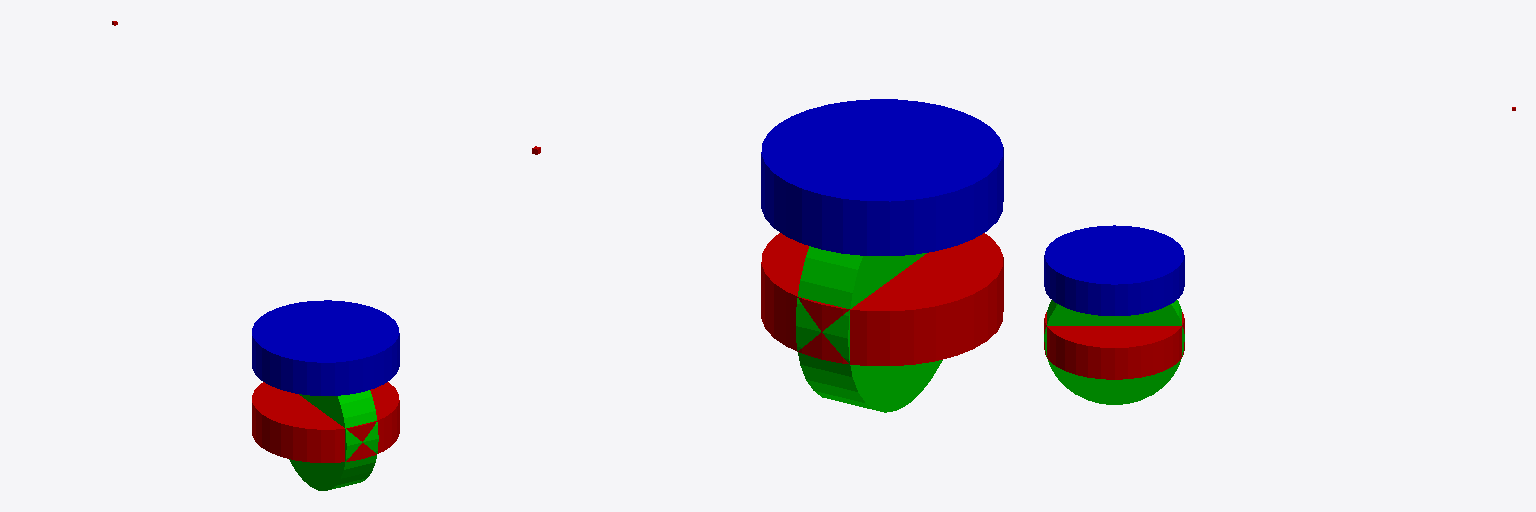
The robot description file, URDF, robot "mira_fixed":
<?xml version="1.0"?>
<robot name="mira_fixed">

    <material name="blue">
        <color rgba="0 0 0.8 1"/>
    </material>
    <material name="red">
        <color rgba="0.8 0 0 1"/>
    </material>
    <material name="green">
        <color rgba="0 0.8 0 1"/>
    </material>

    
	<!-- * * * Link Definitions * * * -->
    <link name="base_link">
 	    <inertial>
            <origin xyz="0 0 0" rpy="0 0 0"/>
            <mass value="0.18" />
            <inertia ixx="0.0002835" ixy="0.0" ixz="0.0" iyy="0.0002835" iyz="0.0" izz="0.000324"/>
        </inertial>
        <collision>
            <origin xyz="0 0 0" rpy="0 0 0"/>
            <geometry>
                <cylinder radius="0.06" length="0.09"/>
            </geometry>
        </collision>
        <visual>
            <origin rpy="0.0 0 0" xyz="0 0 0"/>
            <geometry>
                <mesh filename="package://mira_description/models/mira/meshes/mira_body_v3.dae"/>
            </geometry>
        </visual>
	</link>

    <gazebo reference="roll_M1_link">
        <kp>1000.0</kp>
        <kd>10.0</kd>
        <mu1>10.0</mu1>
        <mu2>10.0</mu2>
    </gazebo>

    <link name="roll_M1_link">
        <!-- Inertial for gazebo to take it into account, Put 1gr weight -->
        <inertial>
            <origin xyz="0 0 0" rpy="0 0 0"/>
            <mass value="0.001" />
            <inertia ixx="2.70833333333e-08" ixy="0.0" ixz="0.0" iyy="2.70833333333e-08" iyz="0.0" izz="5e-08"/>
        </inertial>
        <visual>
            <origin rpy="0 0 0" xyz="0 0 0"/>
            <geometry>
                <cylinder length="0.005" radius="0.01"/>
            </geometry>
            <material name="red"/>
        </visual>
    </link>
    <!-- This is for color and physical properties in Gazebo, color won't work with the material tag in gazebo
    only for URDF coloring -->
    <gazebo reference="roll_M1_link">
        <kp>1000.0</kp>
        <kd>10.0</kd>
        <mu1>10.0</mu1>
        <mu2>10.0</mu2>
        <material>Gazebo/Red</material>
    </gazebo>

    <joint name="roll_joint" type="fixed">
    	<parent link="base_link"/>
    	<child link="roll_M1_link"/>
        <origin xyz="0.0023 0 -0.0005" rpy="0 0 0"/>
	</joint>
	
    
    <link name="pitch_M2_link">
        <!-- Inertial for gazebo to take it into account, Put 1gr weight -->
        <inertial>
            <origin xyz="0 0 0" rpy="0 0 0"/>
            <mass value="0.001" />
            <inertia ixx="2.70833333333e-08" ixy="0.0" ixz="0.0" iyy="2.70833333333e-08" iyz="0.0" izz="5e-08"/>
        </inertial>
        <visual>
            <origin rpy="0 0 0" xyz="0 0 0"/>
            <geometry>
                <cylinder length="0.005" radius="0.01"/>
            </geometry>
            <material name="green"/>
        </visual>
    </link>

    <!-- This is for color and physical properties in Gazebo, color won't work with the material tag in gazebo
    only for URDF coloring -->
    <gazebo reference="pitch_M2_link">
        <kp>1000.0</kp>
        <kd>10.0</kd>
        <mu1>10.0</mu1>
        <mu2>10.0</mu2>
        <material>Gazebo/Green</material>
    </gazebo>

    <joint name="pitch_joint" type="fixed">
    	<parent link="roll_M1_link"/>
    	<child link="pitch_M2_link"/>
    	<origin xyz="0 0 0" rpy="0 -1.5708 0"/>
	</joint>

    
    <link name="yaw_M3_link">
        <!-- Inertial for gazebo to take it into account, Put 1gr weight -->
        <inertial>
            <origin xyz="0 0 0" rpy="0 0 0"/>
            <mass value="0.001" />
            <inertia ixx="2.70833333333e-08" ixy="0.0" ixz="0.0" iyy="2.70833333333e-08" iyz="0.0" izz="5e-08"/>
        </inertial>
        <visual>
            <origin rpy="0 0 0" xyz="0 0 0"/>
            <geometry>
                <cylinder length="0.005" radius="0.01"/>
            </geometry>
            <material name="blue"/>
        </visual>
    </link>

    <!-- This is for color and physical properties in Gazebo, color won't work with the material tag in gazebo
    only for URDF coloring -->
    <gazebo reference="yaw_M3_link">
        <kp>1000.0</kp>
        <kd>10.0</kd>
        <mu1>10.0</mu1>
        <mu2>10.0</mu2>
        <material>Gazebo/Blue</material>
    </gazebo>


    <joint name="yaw_joint" type="fixed">
    	<parent link="pitch_M2_link"/>
    	<child link="yaw_M3_link"/>
        <origin xyz="0.01 0 0" rpy="0 1.5708 0"/>
	</joint>

    
    <link name="head_link">
 	    <inertial>
            <origin xyz="0 0 0" rpy="0 0 0"/>
            <mass value="0.02" />
            <inertia ixx="2.61666666667e-05" ixy="0.0" ixz="0.0" iyy="2.61666666667e-05" iyz="0.0" izz="3.6e-05"/>
        </inertial>
        <collision>
            <origin xyz="0 0 0.015" rpy="0 0 0"/>
            <geometry>
                <!--
                <cylinder radius="0.06" length="0.035"/>
                -->
                <sphere radius="0.06"/>
            </geometry>
        </collision>
		<visual>
            <origin rpy="0.0 0 0" xyz="0 0 0"/>
            <geometry>
                <mesh filename="package://mira_description/models/mira/meshes/mira_head_v5.dae"/>
            </geometry>
        </visual>
	</link>


    <joint name="base_head_joint" type="fixed">
    	<parent link="yaw_M3_link"/>
    	<child link="head_link"/>
    	<origin xyz="0 0 0" rpy="0 0 0"/>
	</joint>

    <link name="left_eye_link">
        <!-- Inertial for gazebo to take it into account, Put 1gr weight -->
        <inertial>
            <origin xyz="0 0 0" rpy="0 0 0"/>
            <mass value="0.001" />
            <inertia ixx="9.1875e-09" ixy="0.0" ixz="0.0" iyy="9.1875e-09" iyz="0.0" izz="1.378125e-08"/>
        </inertial>
		<visual>
            <origin rpy="0.0 0 0" xyz="0 0 0"/>
            <geometry>
                <!--
                <cylinder radius="0.00525" length="0.00525"/>
                -->
                <mesh filename="package://mira_description/models/mira/meshes/mira_eye_v4.dae"/>
            </geometry>
        </visual>
	</link>

    <link name="right_eye_link">
        <!-- Inertial for gazebo to take it into account, Put 1gr weight -->
        <inertial>
            <origin xyz="0 0 0" rpy="0 0 0"/>
            <mass value="0.001" />
            <inertia ixx="9.1875e-09" ixy="0.0" ixz="0.0" iyy="9.1875e-09" iyz="0.0" izz="1.378125e-08"/>
        </inertial>
		<visual>
            <origin rpy="0.0 0 0" xyz="0 0 0"/>
            <geometry>
                <!--
                <cylinder radius="0.00525" length="0.00525"/>
                -->
                <mesh filename="package://mira_description/models/mira/meshes/mira_eye_v4.dae"/>
            </geometry>
        </visual>
	</link>

    <joint name="head_lefteye_joint" type="fixed">
        <parent link="head_link"/>
        <child link="left_eye_link"/>
        <origin xyz="0.0095 0.057 0.0085" rpy="-1.5708 0 0"/>
    </joint>

    <joint name="head_righteye_joint" type="fixed">
        <parent link="head_link"/>
        <child link="right_eye_link"/>
        <origin xyz="-0.0095 0.057 0.0085" rpy="-1.5708 0 0"/>
    </joint>

    <link name="camera_link">
        <!-- Inertial for gazebo to take it into account, Put 1gr weight -->
        <inertial>
            <origin xyz="0 0 0" rpy="0 0 0"/>
            <mass value="0.001" />
            <inertia ixx="9.1875e-09" ixy="0.0" ixz="0.0" iyy="9.1875e-09" iyz="0.0" izz="1.378125e-08"/>
        </inertial>
		<visual>
            <origin rpy="0.0 0 0" xyz="0 0 0"/>
            <geometry>
                <box size="0.0005 0.0005 0.0005"/>
            </geometry>
            <material name="red"/>
        </visual>
	</link>

    <gazebo reference="camera_link">
        <material>Gazebo/Red</material>
    </gazebo>

    <joint name="head_camera_joint" type="fixed">
        <parent link="head_link"/>
        <child link="camera_link"/>
        <origin xyz="0 0.057 0.0255" rpy="0 0 0"/>
    </joint>

</robot>

--- Facts derived from the render (not from the file) ---
The picture shows the robot from 3 angles, left to right: view 1: azimuth 30°, elevation 25°; view 2: azimuth 150°, elevation 25°; view 3: azimuth 270°, elevation 25°; orthographic projection.
Model mira_fixed with 8 links and 7 joints (7 fixed), rooted at base_link, posed all joints at 0.
Links seen in each view (by area): view 1: yaw_M3_link, roll_M1_link, pitch_M2_link; view 2: yaw_M3_link, roll_M1_link, pitch_M2_link; view 3: yaw_M3_link, roll_M1_link, pitch_M2_link.
Link boxes in pixels (x1,y1,x2,y2): yaw_M3_link: [252, 300, 399, 395]; roll_M1_link: [252, 382, 399, 462]; pitch_M2_link: [289, 390, 378, 490]; yaw_M3_link: [761, 99, 1003, 255]; roll_M1_link: [761, 233, 1003, 365]; pitch_M2_link: [796, 246, 942, 412]; yaw_M3_link: [1044, 225, 1184, 315]; roll_M1_link: [1044, 312, 1184, 379]; pitch_M2_link: [1044, 300, 1184, 404].
Bounding box of the posed robot: 0.02 × 0.0672 × 0.0458 m (x, y, z).
0 mesh visuals loaded from 3 distinct referenced files (none loaded); not drawn: 4 (reference not matched to a file when rendering).
